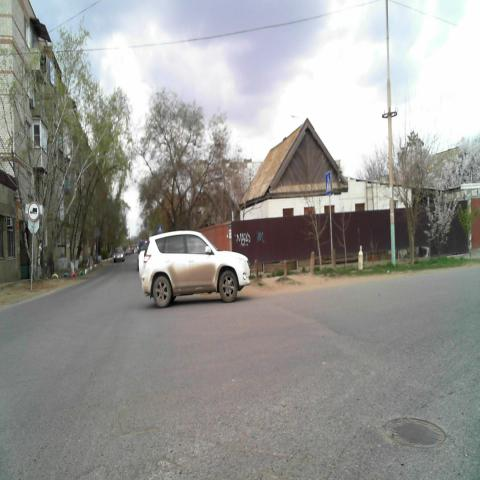3_4_1: (28, 200, 40, 222)
